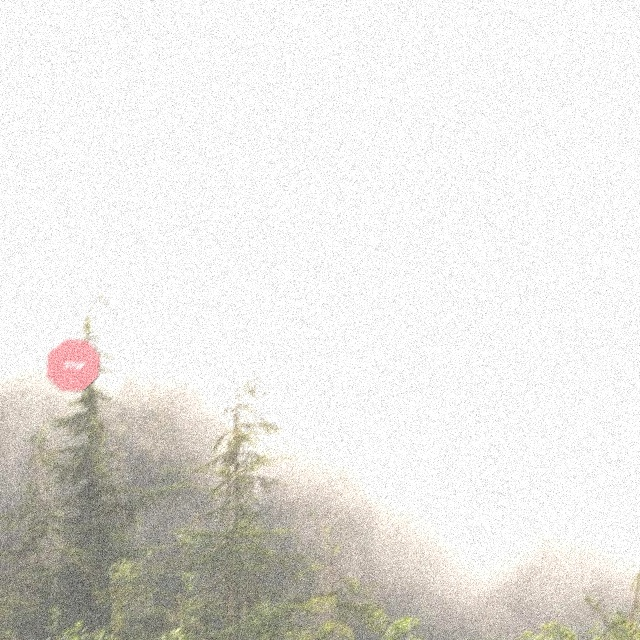STOP: (43, 338, 98, 391)
